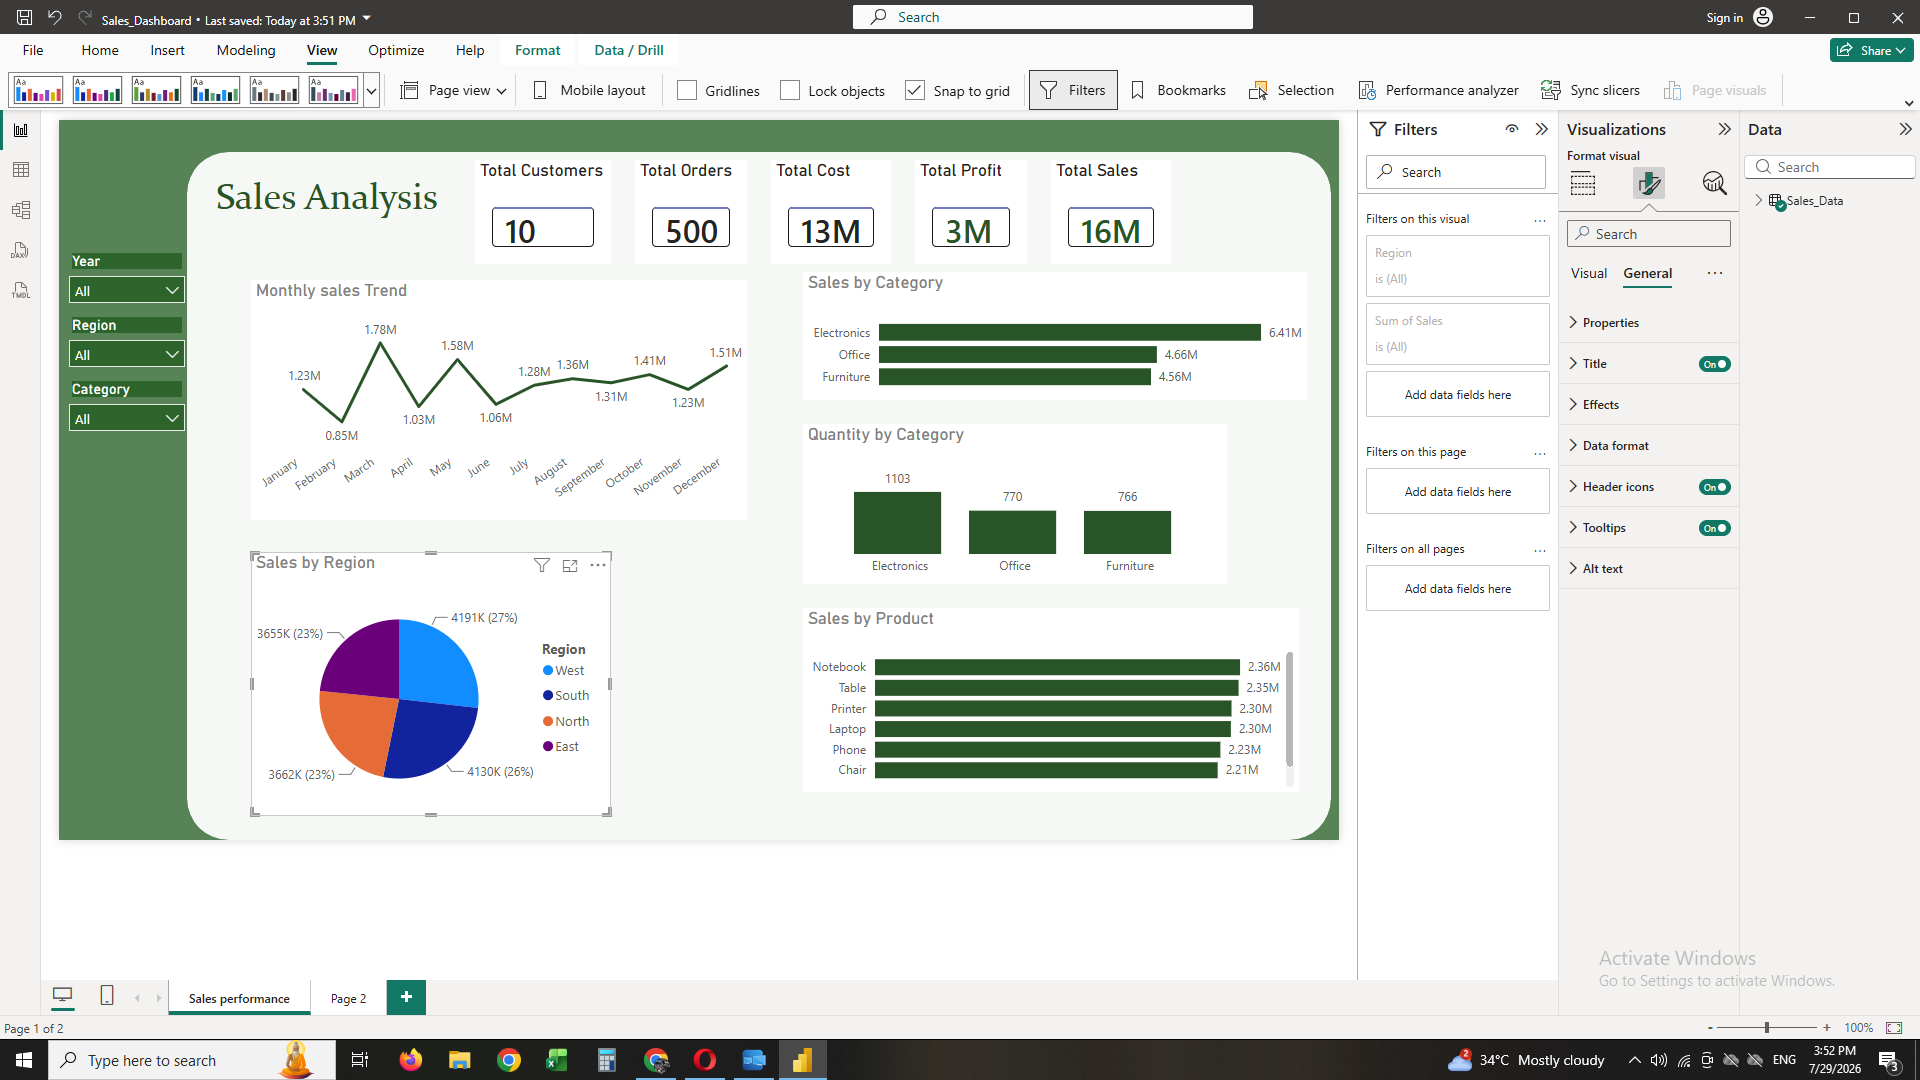

The page's visual inventory and layout, read from the dashboard file:
{"tool":"powerbi","page":{"name":"Sales performance ","canvas":[1280,720],"ordinal":0},"visuals":[{"type":"shape","box":[128,24,1144,688],"z":0},{"type":"cardVisual","title":"Total Sales","fields":{"Data":["Sales_Data.Total Sales"]},"box":[1048,40,192,104],"z":1000},{"type":"cardVisual","title":"Total Customers","fields":{"Data":["Sales_Data.Total Customers"]},"box":[392,40,136,104],"z":2000},{"type":"cardVisual","title":"Total Profit","fields":{"Data":["Sales_Data.Total Profit"]},"box":[864,40,176,104],"z":3000},{"type":"cardVisual","title":"Total Cost","fields":{"Data":["Sales_Data.Total CostPrice"]},"box":[656,40,200,104],"z":4000},{"type":"cardVisual","title":"Total Orders","fields":{"Data":["Sales_Data.Total Orders"]},"box":[536,40,112,104],"z":5000},{"type":"clusteredBarChart","title":" Sales by Category","fields":{"Y":["Sum(Sales_Data.Sales)"],"Category":["Sales_Data.Category"]},"box":[744,160,256,240],"z":6000},{"type":"pieChart","title":" Sales by Region","fields":{"Category":["Sales_Data.Region"],"Y":["Sum(Sales_Data.Sales)"]},"box":[600,424,368,272],"z":7000},{"type":"lineChart","title":"Monthly sales Trend","fields":{"Category":["Sales_Data.Order_Date.Variation.Date Hierarchy.Month"],"Y":["Sum(Sales_Data.Sales)"]},"box":[192,160,512,240],"z":8000},{"type":"slicer","fields":{"Values":["Sales_Data.Order_Date.Variation.Date Hierarchy.Year"]},"box":[0,128,136,80],"z":9000},{"type":"slicer","fields":{"Values":["Sales_Data.Region"]},"box":[0,192,136,64],"z":10000},{"type":"slicer","fields":{"Values":["Sales_Data.Category"]},"box":[0,256,136,64],"z":11000},{"type":"textbox","box":[136,48,312,80],"z":11500},{"type":"clusteredBarChart","title":"Sales by Product","fields":{"Category":["Sales_Data.Product"],"Y":["Sum(Sales_Data.Sales)"]},"box":[984,432,264,248],"z":12000},{"type":"clusteredColumnChart","title":"Quantity by Category","fields":{"Category":["Sales_Data.Category"],"Y":["Sum(Sales_Data.Quantity)"]},"box":[1008,168,248,232],"z":13000},{"type":"tableEx","fields":{"Values":["Sum(Sales_Data.Sales)","Sales_Data.Product","Sum(Sales_Data.Profit)","Sum(Sales_Data.Quantity)"]},"box":[200,440,376,200],"z":15000}]}

Visuals, with their boxes on the page's 1280x720 design canvas (x1, y1, x2, y2). These are canvas units, not pixel positions in the 1920x1080 screenshot, which may show the page scaled, cropped or inside an application window:
shape: (x1=128, y1=24, x2=1272, y2=712)
"Total Sales" cardVisual: (x1=1048, y1=40, x2=1240, y2=144)
"Total Customers" cardVisual: (x1=392, y1=40, x2=528, y2=144)
"Total Profit" cardVisual: (x1=864, y1=40, x2=1040, y2=144)
"Total Cost" cardVisual: (x1=656, y1=40, x2=856, y2=144)
"Total Orders" cardVisual: (x1=536, y1=40, x2=648, y2=144)
" Sales by Category" clusteredBarChart: (x1=744, y1=160, x2=1000, y2=400)
" Sales by Region" pieChart: (x1=600, y1=424, x2=968, y2=696)
"Monthly sales Trend" lineChart: (x1=192, y1=160, x2=704, y2=400)
slicer - Sales_Data.Order_Date.Variation.Date Hierarchy.Year: (x1=0, y1=128, x2=136, y2=208)
slicer - Sales_Data.Region: (x1=0, y1=192, x2=136, y2=256)
slicer - Sales_Data.Category: (x1=0, y1=256, x2=136, y2=320)
textbox: (x1=136, y1=48, x2=448, y2=128)
"Sales by Product" clusteredBarChart: (x1=984, y1=432, x2=1248, y2=680)
"Quantity by Category" clusteredColumnChart: (x1=1008, y1=168, x2=1256, y2=400)
tableEx - Sum(Sales_Data.Sales) x Sales_Data.Product: (x1=200, y1=440, x2=576, y2=640)
